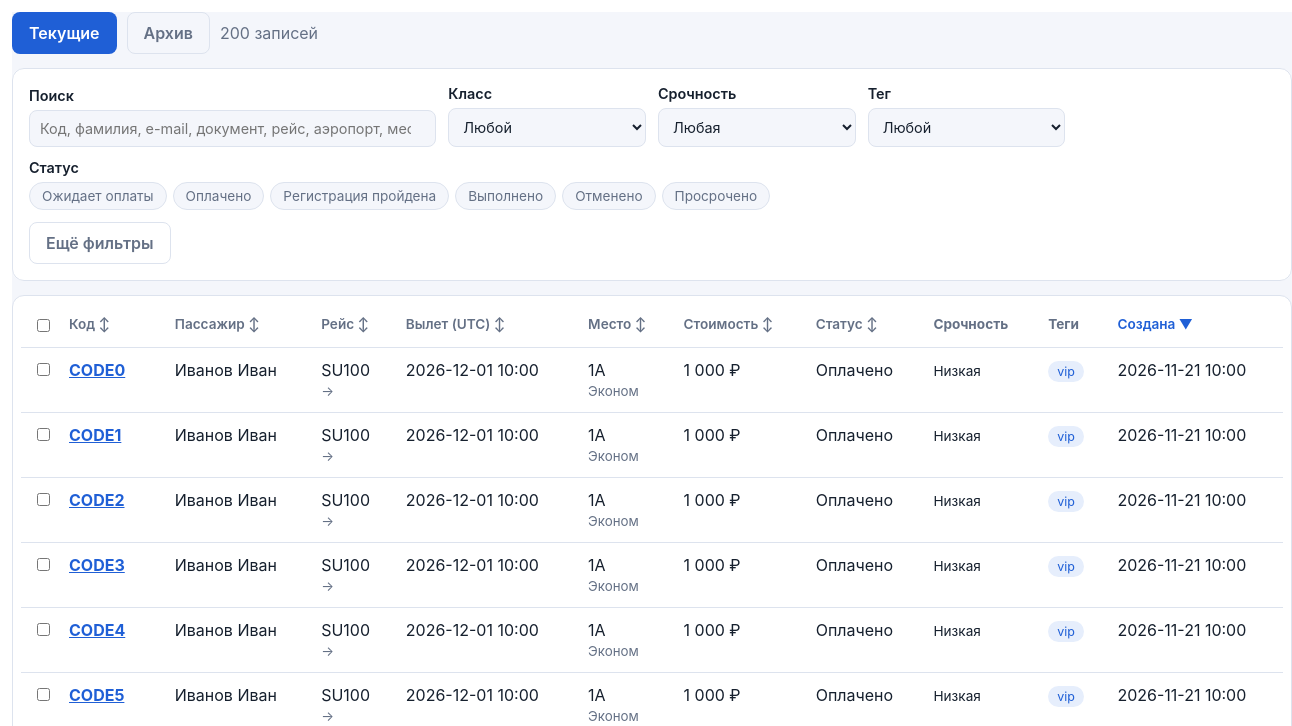
Test: Поиск и фильтры броней › ограничивает массовое выделение сотней броней на нескольких страницах
Click the checkbox named "Выбрать CODE0". click: (44, 370)
box: [37,363,50,376]
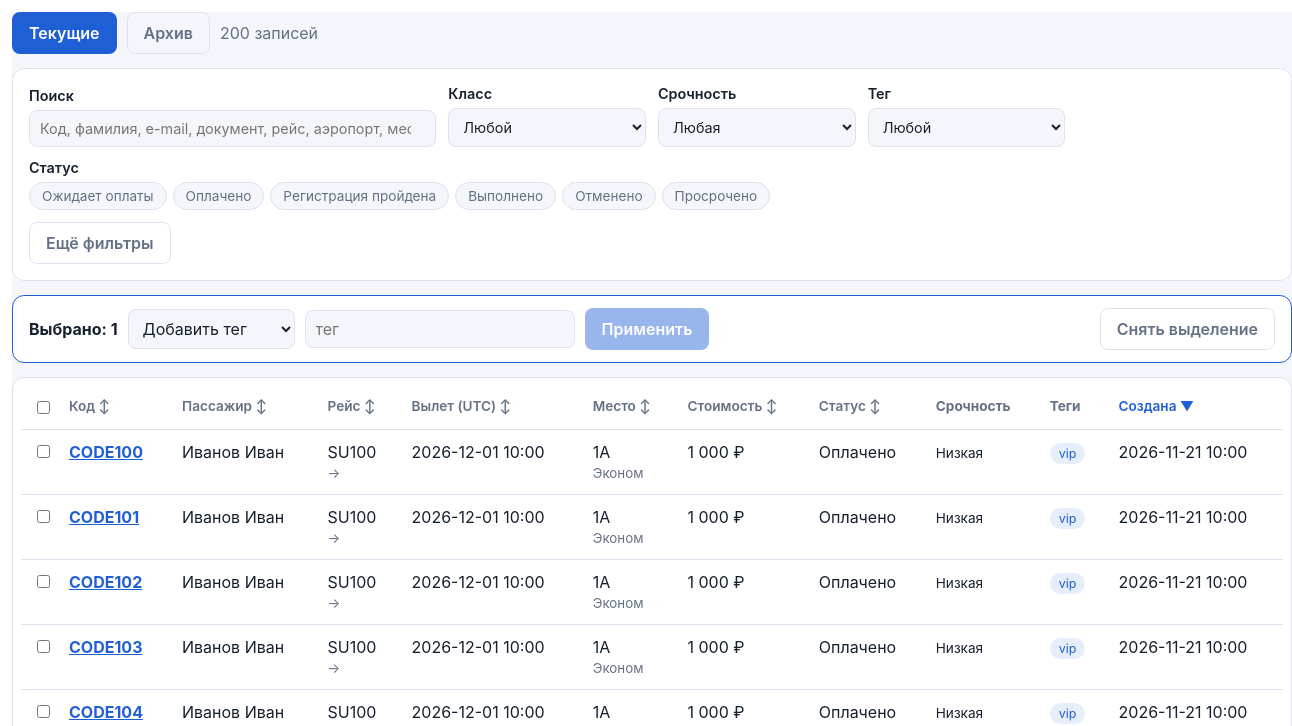
Now the text "Выбрано: 1" is shown, box [29,319,118,339]
Click the checkbox named "Выбрать все на странице". click: (44, 408)
box: [37,401,50,414]
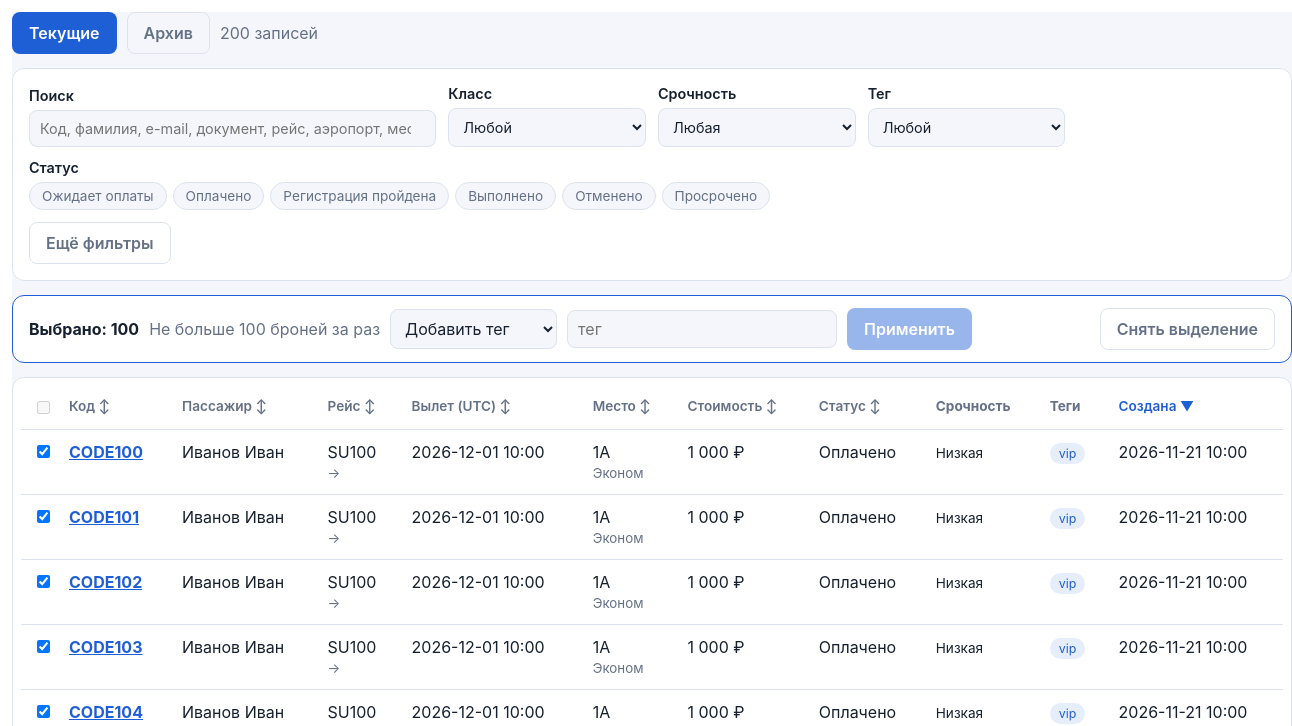
Now the text "Выбрано: 100" is shown, box [29,319,139,339]
